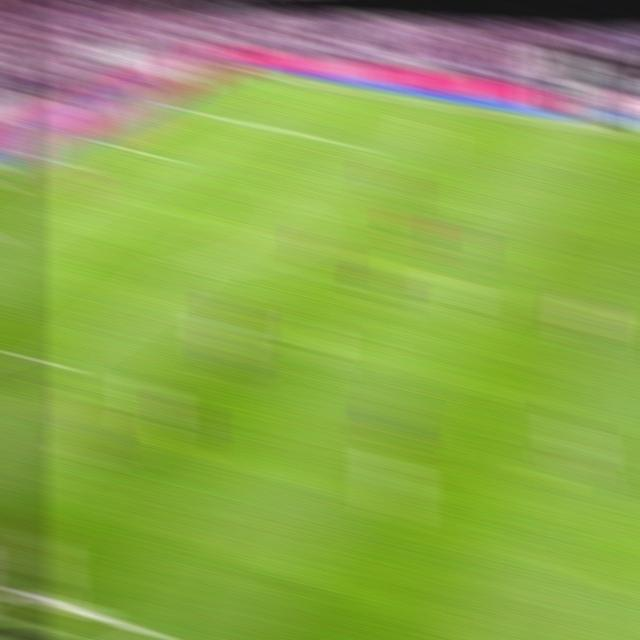bigarea_bottom_inner: (33, 347, 69, 378)
bigarea_top_inner: (335, 132, 366, 154)
bigarea_top_outter: (162, 95, 193, 115)
bottom_arc_area_intersection: (167, 255, 200, 279)
corner: (231, 62, 264, 80)
smallarea_top_inner: (148, 148, 176, 163)
top_arc_area_intersection: (269, 181, 300, 203)
